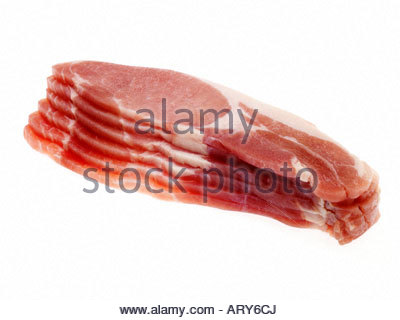bacon: (12, 42, 375, 265)
